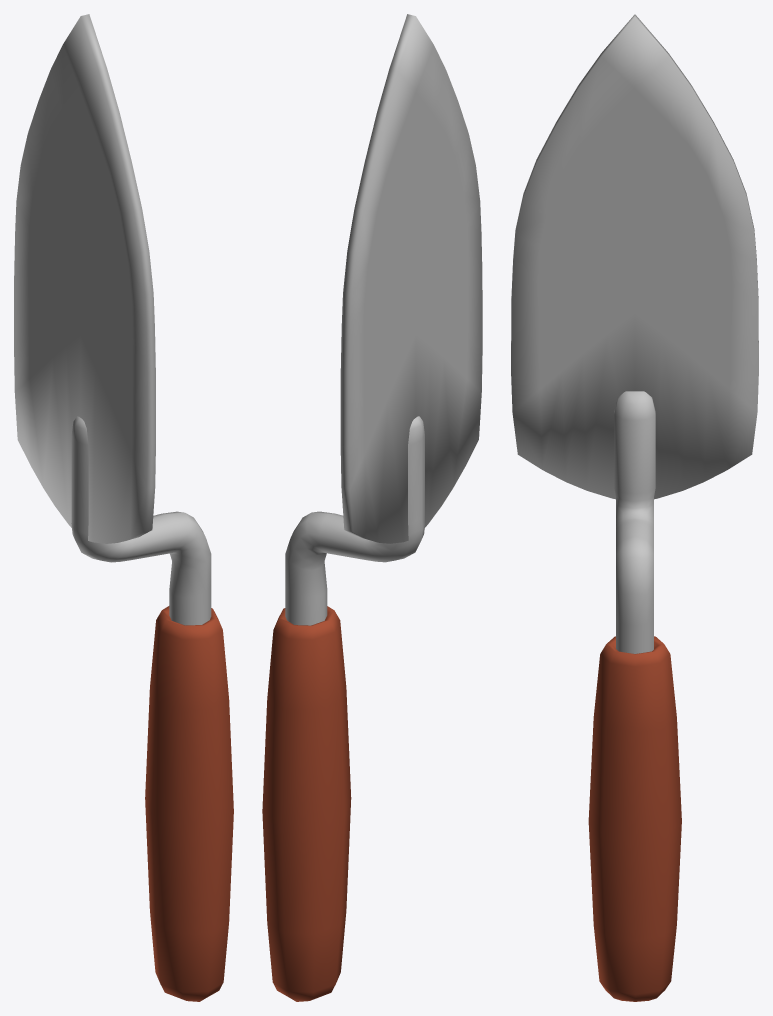
The model's file is toolsShovel_soil_004.fbx.
The picture shows the model from 3 angles, left to right: view 1: azimuth 30°, elevation 25°; view 2: azimuth 150°, elevation 25°; view 3: azimuth 270°, elevation 25°; orthographic projection. The views are drawn at different scales.
Visible parts, largest first — view 1: Shovel soil.004; view 2: Shovel soil.004; view 3: Shovel soil.004.
Boxes of the visible parts, <box> form: Shovel soil.004: <box>14,14,233,1001</box>; Shovel soil.004: <box>262,14,482,1001</box>; Shovel soil.004: <box>511,14,758,1001</box>.
Bounding box in the file's own units: 26.29 × 165 × 39.66.
